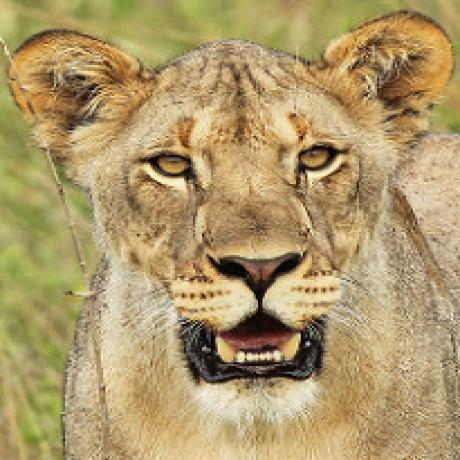Lion: (4, 11, 459, 460)
